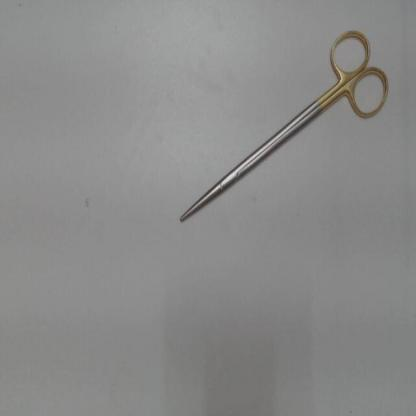7 Metzenbaum Scissors: (176, 21, 392, 229)
